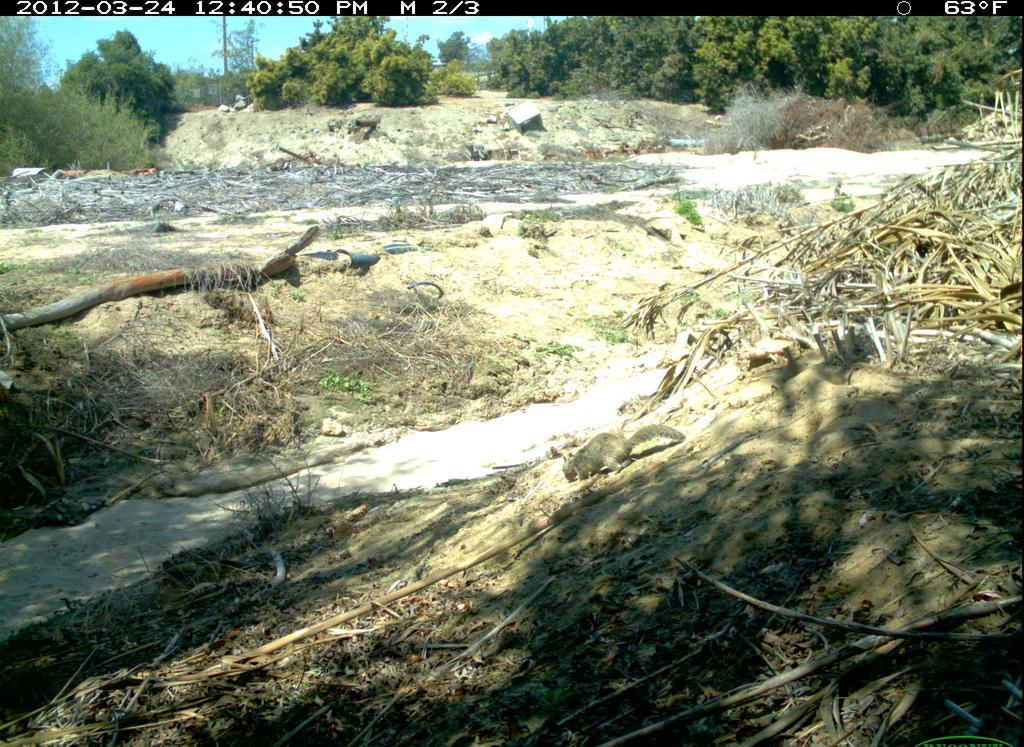squirrel: (548, 419, 687, 491)
